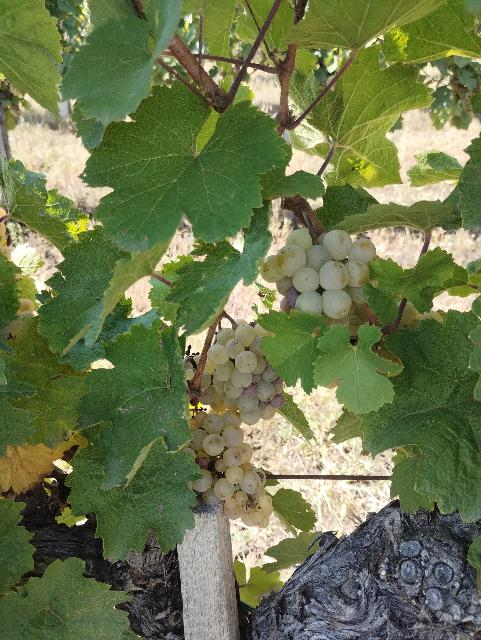grapes: (261, 229, 378, 336), (181, 411, 274, 528), (208, 320, 285, 425)
